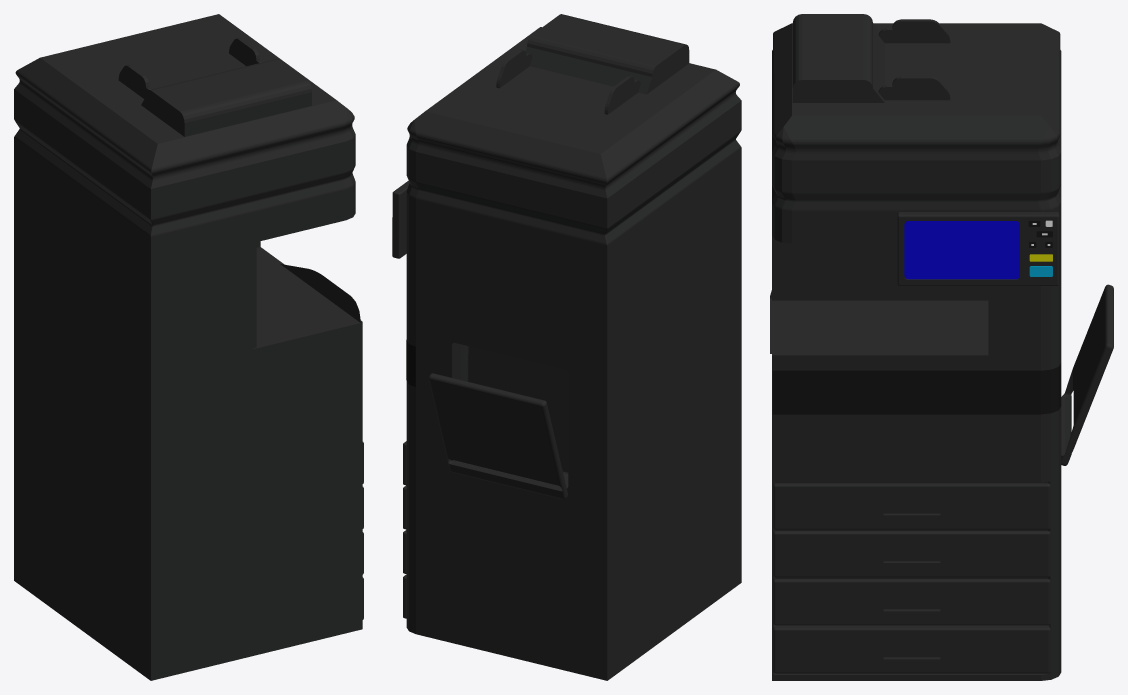
Rendered from toshiba_3D.glb.
3 views of the same model, side by side, from view 1: azimuth 30°, elevation 25°; view 2: azimuth 150°, elevation 25°; view 3: azimuth 270°, elevation 25° (orthographic). The views are drawn at different scales.
Parts seen in each view (by area): view 1: Cube; view 2: Cube, Cube.001; view 3: Cube, Cube.001.
Part boxes in pixels (x1=…): Cube: x1=14, y1=14, x2=362, y2=680; Cube: x1=392, y1=14, x2=741, y2=680; Cube.001: x1=403, y1=441, x2=406, y2=618; Cube: x1=770, y1=14, x2=1113, y2=680; Cube.001: x1=773, y1=483, x2=1050, y2=673.
Size of the model in its own units: 0.5066 by 1.2 by 0.6445.
